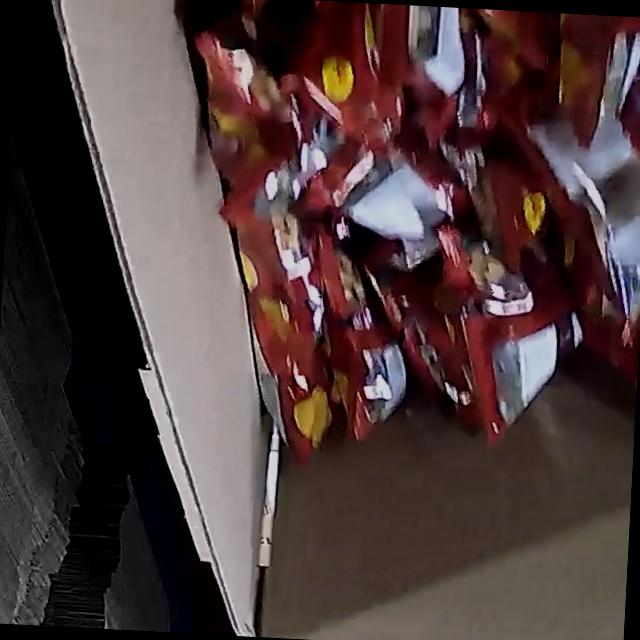masala: (161, 0, 640, 477)
